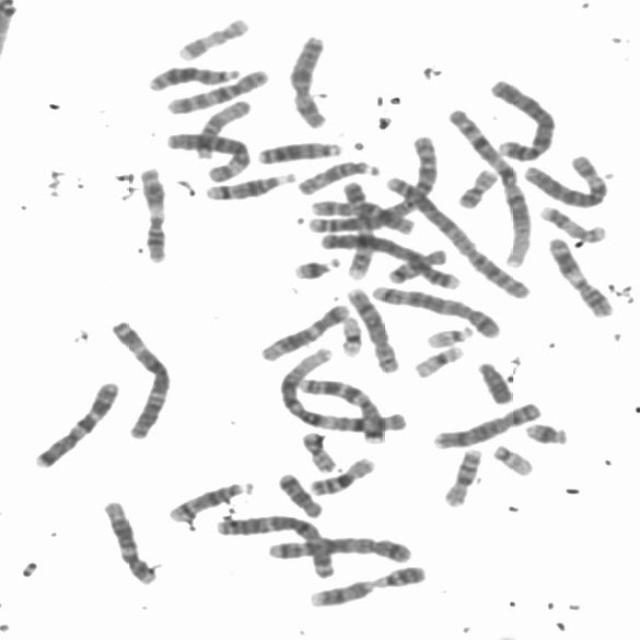A1: (444, 104, 533, 270), (275, 342, 407, 437)
A2: (379, 170, 532, 300), (302, 128, 439, 234)
A3: (211, 508, 338, 580), (106, 314, 176, 440)
B4: (314, 227, 463, 291), (484, 74, 559, 163)
B5: (366, 279, 504, 339), (260, 531, 415, 565)
C10: (161, 64, 272, 115), (305, 194, 417, 235)
C11: (543, 232, 617, 319), (134, 162, 170, 264)
C12: (256, 298, 352, 363), (98, 495, 161, 586)
C6: (518, 148, 612, 208), (162, 128, 253, 184)
C7: (26, 374, 123, 470), (294, 373, 390, 442)
C8: (428, 398, 544, 450), (341, 282, 405, 374)
C9: (303, 560, 431, 609), (338, 174, 379, 281)
D13: (143, 60, 244, 93), (252, 135, 344, 166)
D14: (164, 476, 256, 523), (200, 166, 299, 202)
D15: (190, 95, 254, 159), (292, 155, 382, 196)
E16: (304, 451, 380, 498), (438, 443, 484, 508)
E17: (172, 12, 252, 62), (535, 200, 608, 244)
E18: (383, 244, 450, 286), (272, 468, 325, 518)
F19: (408, 340, 467, 379), (335, 310, 365, 358)
F20: (453, 164, 501, 210), (297, 427, 339, 474)
G21: (288, 250, 344, 282), (520, 416, 572, 446)
G22: (488, 439, 537, 478), (421, 321, 476, 349)
X: (284, 30, 332, 130)
Y: (472, 356, 516, 406)
